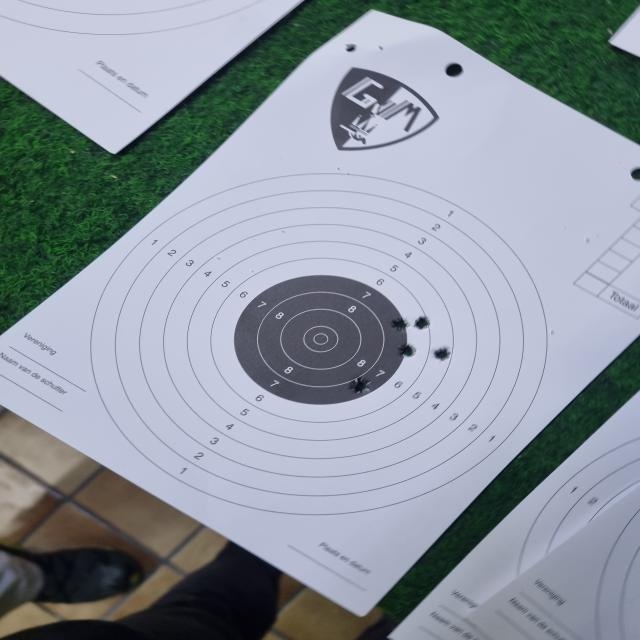6: (433, 347, 452, 361)
7: (414, 316, 432, 330)
8: (349, 378, 371, 394), (392, 316, 411, 332), (397, 344, 416, 358)
Black Contour: (233, 273, 406, 405)
Target: (89, 172, 548, 516)
